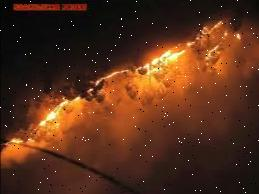fire: (17, 100, 74, 148), (140, 46, 189, 78)
